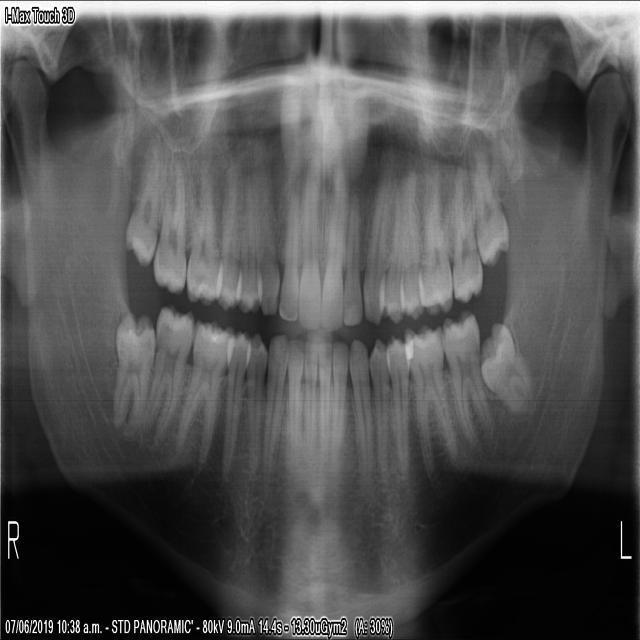LCD: (344, 334, 372, 501)
LCU: (360, 145, 393, 324)
LID: (327, 336, 348, 473), (314, 336, 330, 491)
LIU: (316, 161, 347, 331), (338, 180, 361, 326)
LMD: (400, 318, 457, 485), (436, 302, 493, 452), (476, 314, 532, 417)
LMU: (412, 172, 452, 316), (448, 156, 482, 301), (471, 150, 509, 267)
LPMD: (381, 331, 410, 484), (365, 335, 388, 491)
LPMU: (375, 172, 404, 324), (395, 181, 424, 320)
RCD: (258, 331, 288, 500)
RCU: (251, 160, 279, 317)
RID: (283, 333, 303, 490), (300, 335, 317, 482)
RIU: (294, 155, 318, 330), (275, 171, 299, 323)
RMD: (171, 314, 232, 475), (140, 299, 192, 446), (110, 307, 153, 432)
RMU: (183, 159, 221, 308), (119, 142, 162, 267), (149, 157, 185, 297)
RPMD: (218, 325, 251, 475), (241, 330, 267, 480)
RPMU: (230, 173, 262, 314), (213, 164, 240, 310)
